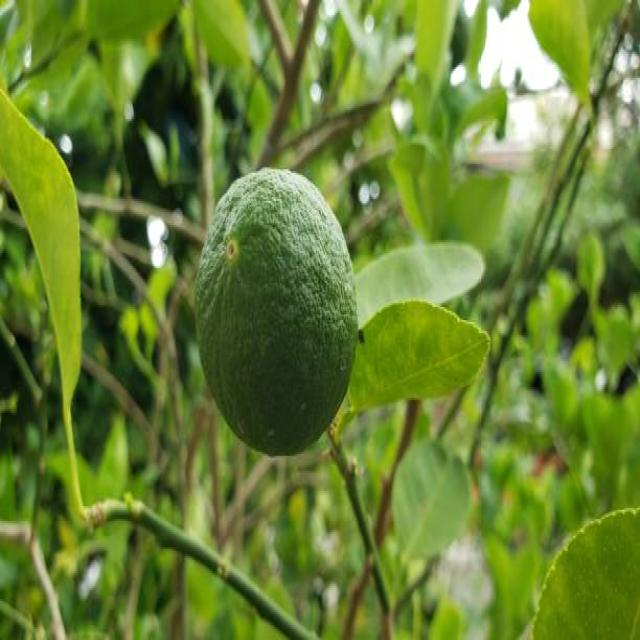Unripe: (195, 168, 354, 455)
